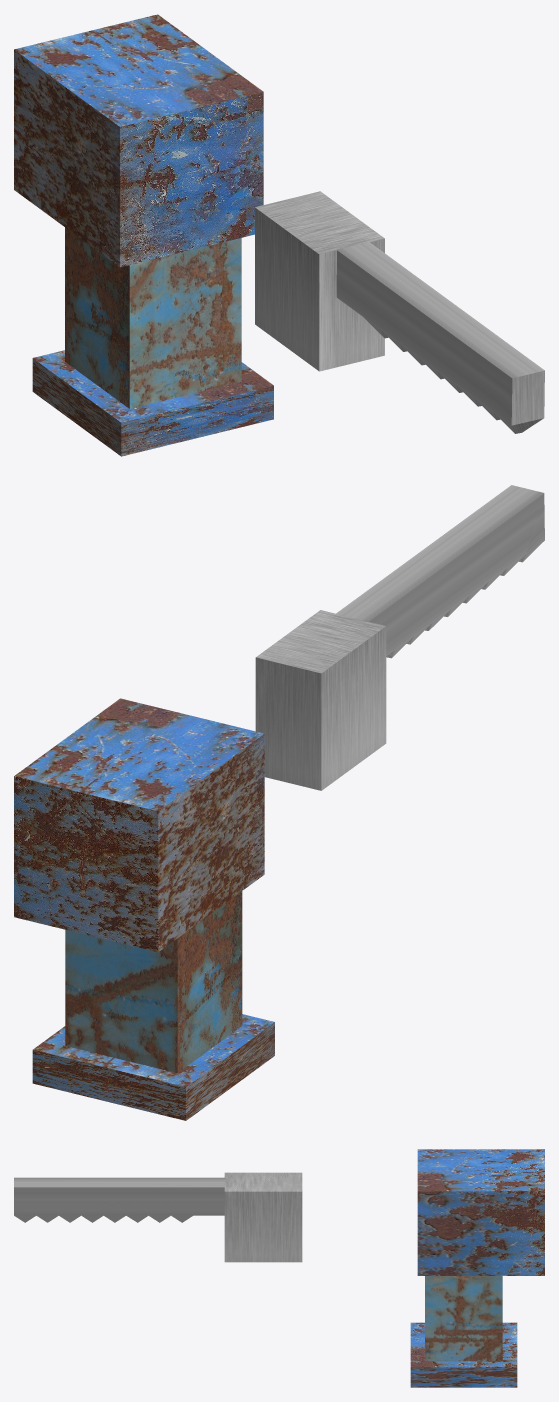
3 renders of one model, top to bottom at view 1: azimuth 30°, elevation 25°; view 2: azimuth 150°, elevation 25°; view 3: azimuth 270°, elevation 25°, orthographic. The views are drawn at different scales.
Parts seen in each view (by area): view 1: Куб.001, Куб.002, Куб, Cube; view 2: Куб.001, Куб.002, Куб, Cube; view 3: Куб.001, Куб.002, Куб, Cube.
Part boxes in pixels (bbox=[...]): Куб.001: bbox=[14, 14, 263, 267]; Куб.002: bbox=[255, 191, 544, 433]; Куб: bbox=[65, 227, 241, 408]; Cube: bbox=[32, 350, 273, 456]; Куб.001: bbox=[14, 698, 264, 952]; Куб.002: bbox=[255, 485, 544, 790]; Куб: bbox=[65, 891, 242, 1073]; Cube: bbox=[32, 1014, 274, 1120]; Куб.001: bbox=[417, 1149, 544, 1275]; Куб.002: bbox=[14, 1172, 302, 1262]; Куб: bbox=[425, 1276, 502, 1361]; Cube: bbox=[410, 1322, 517, 1387].
Size of the model in its own units: 2.73 by 5.54 by 13.67.
Materials: 4 (4 with a texture image).
